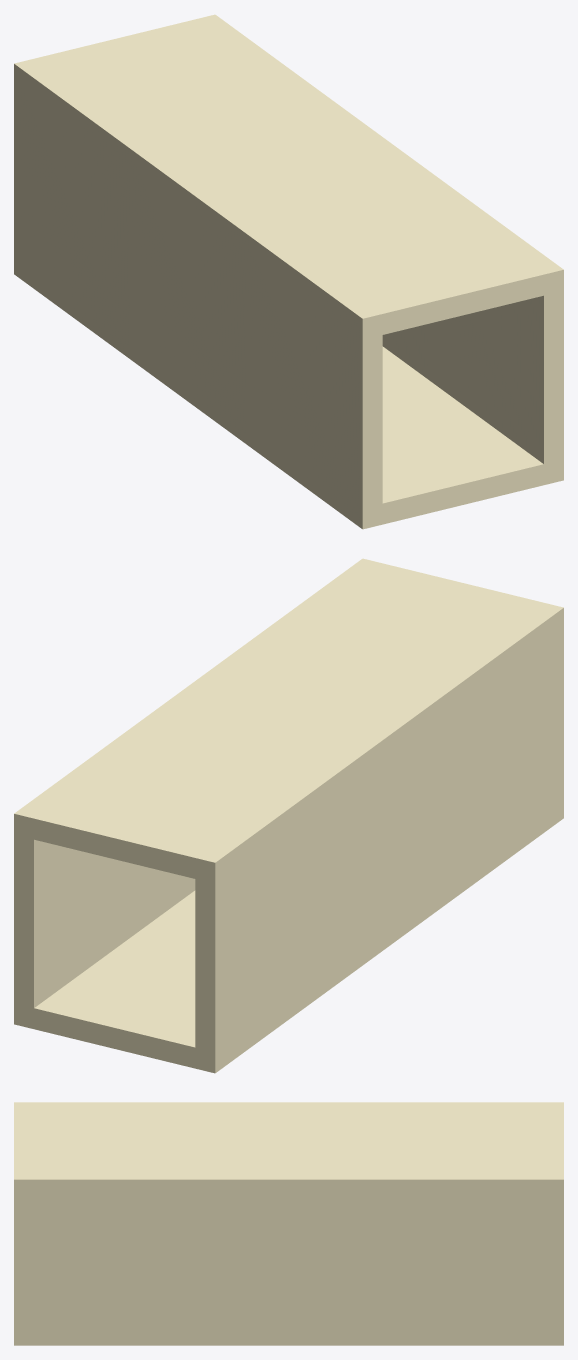
File: tubing part 3.fbx
3 renders of one model, top to bottom at view 1: azimuth 30°, elevation 25°; view 2: azimuth 150°, elevation 25°; view 3: azimuth 270°, elevation 25°, orthographic. The views are drawn at different scales.
Parts seen in each view (by area): view 1: Cube.002; view 2: Cube.002; view 3: Cube.002.
Boxes of the visible parts, left/top/right/bottom form: Cube.002: left=14, top=14, right=563, bottom=529; Cube.002: left=14, top=558, right=563, bottom=1073; Cube.002: left=14, top=1102, right=563, bottom=1345.
Bounding box in the file's own units: 200 × 200 × 600.
